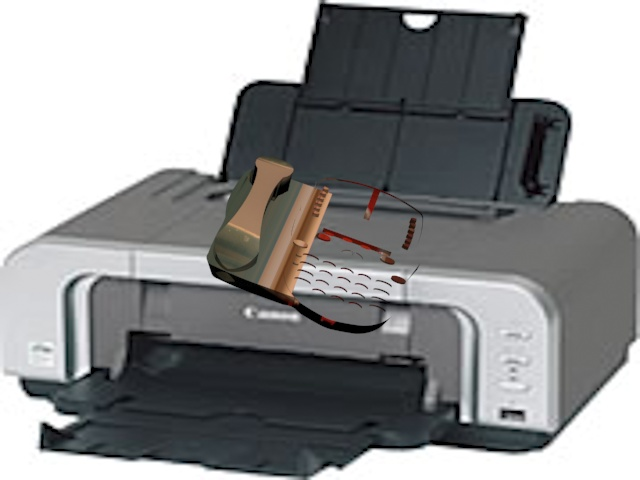phone: (201, 144, 424, 337)
